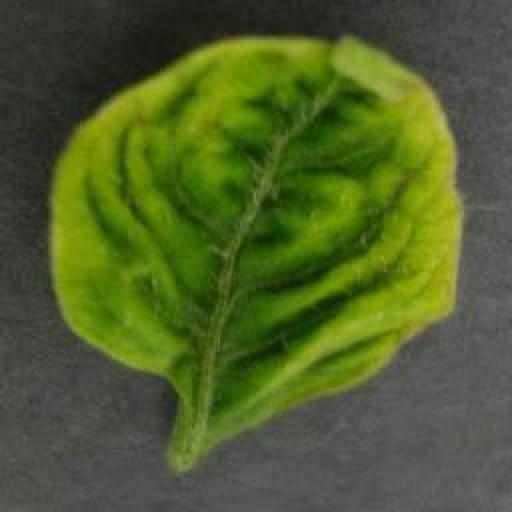disease_tomato: (48, 33, 465, 439)
